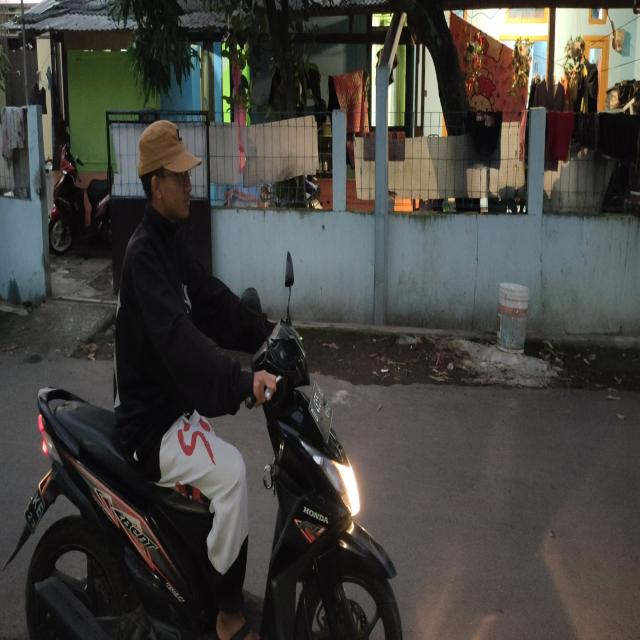no-helmet: (141, 116, 195, 218)
